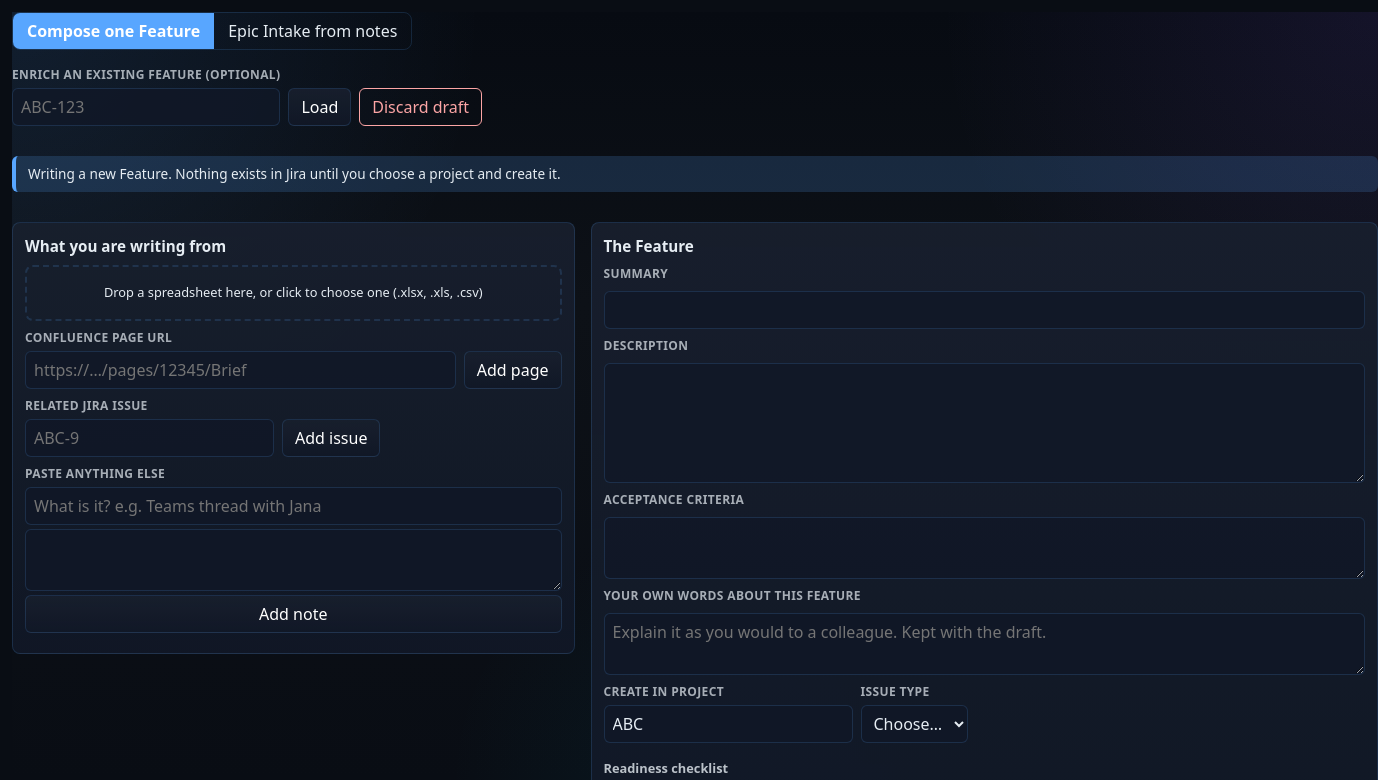
Test case: FeatureCompositionTab — all four source types in one place (SC-017) › adds a pasted note
Type "Teams thread" into the field labelled "Paste anything else".
click(293, 506); type("Teams thread")  # box [25,487,562,525]
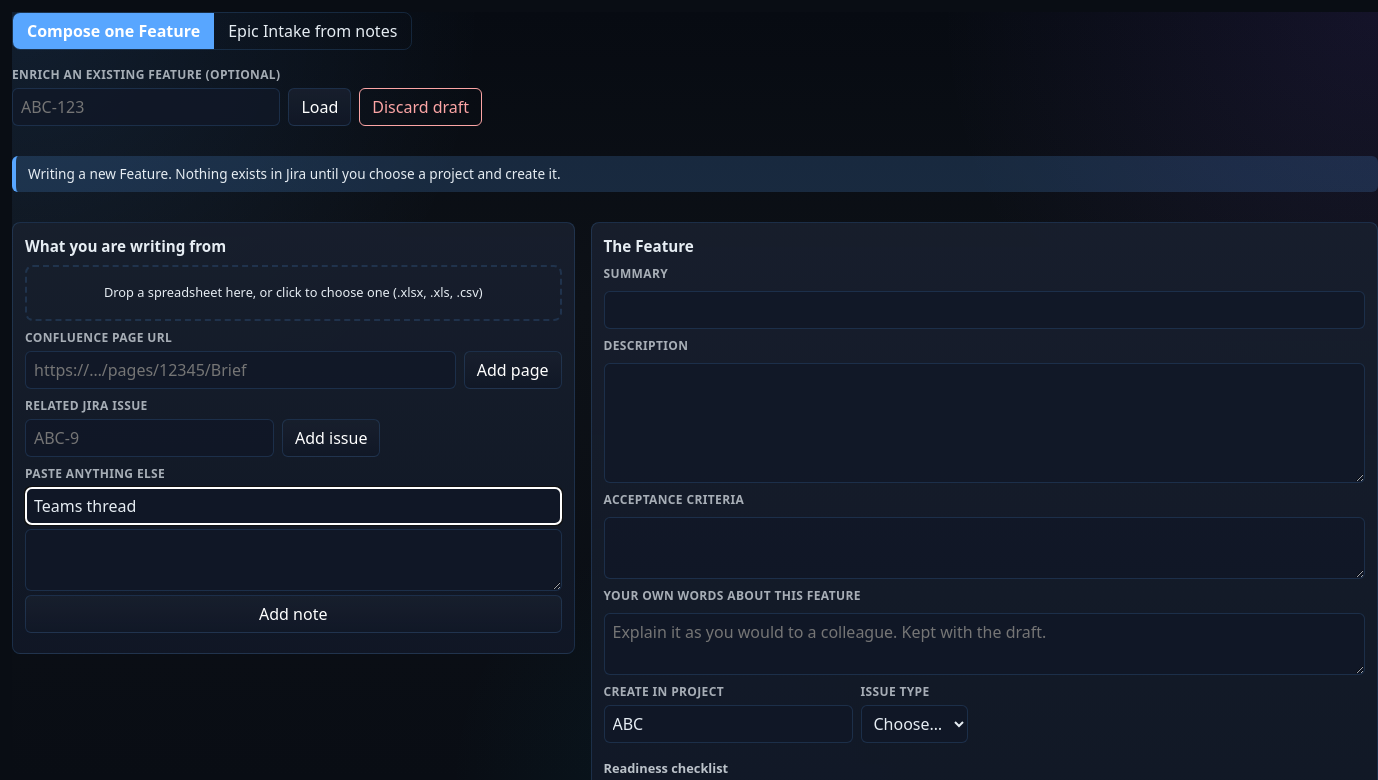
Type "Jana confirmed the SLA." into the text box named "Pasted content".
click(293, 560); type("Jana confirmed the SLA.")  # box [25,529,562,591]
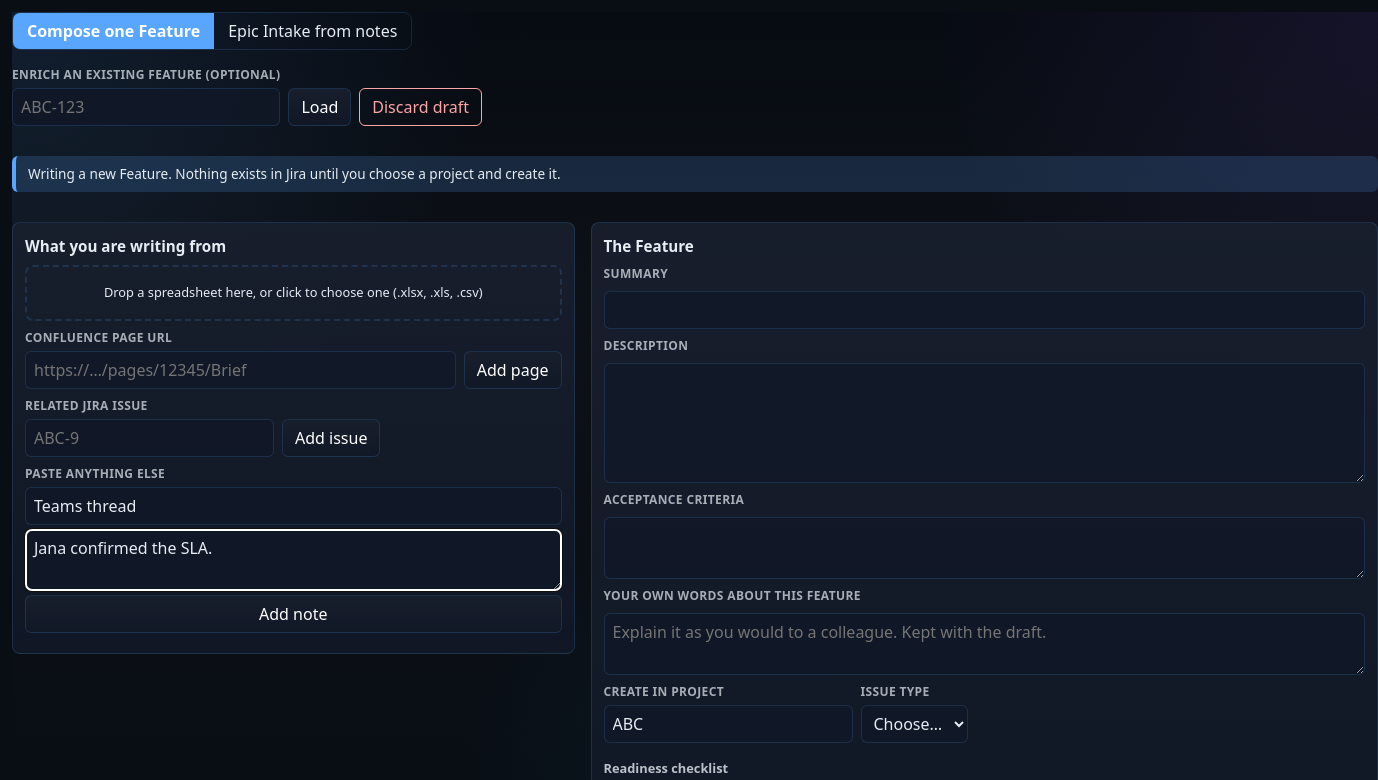
Click the button "Add note".
click(293, 614)  # box [25,595,562,633]
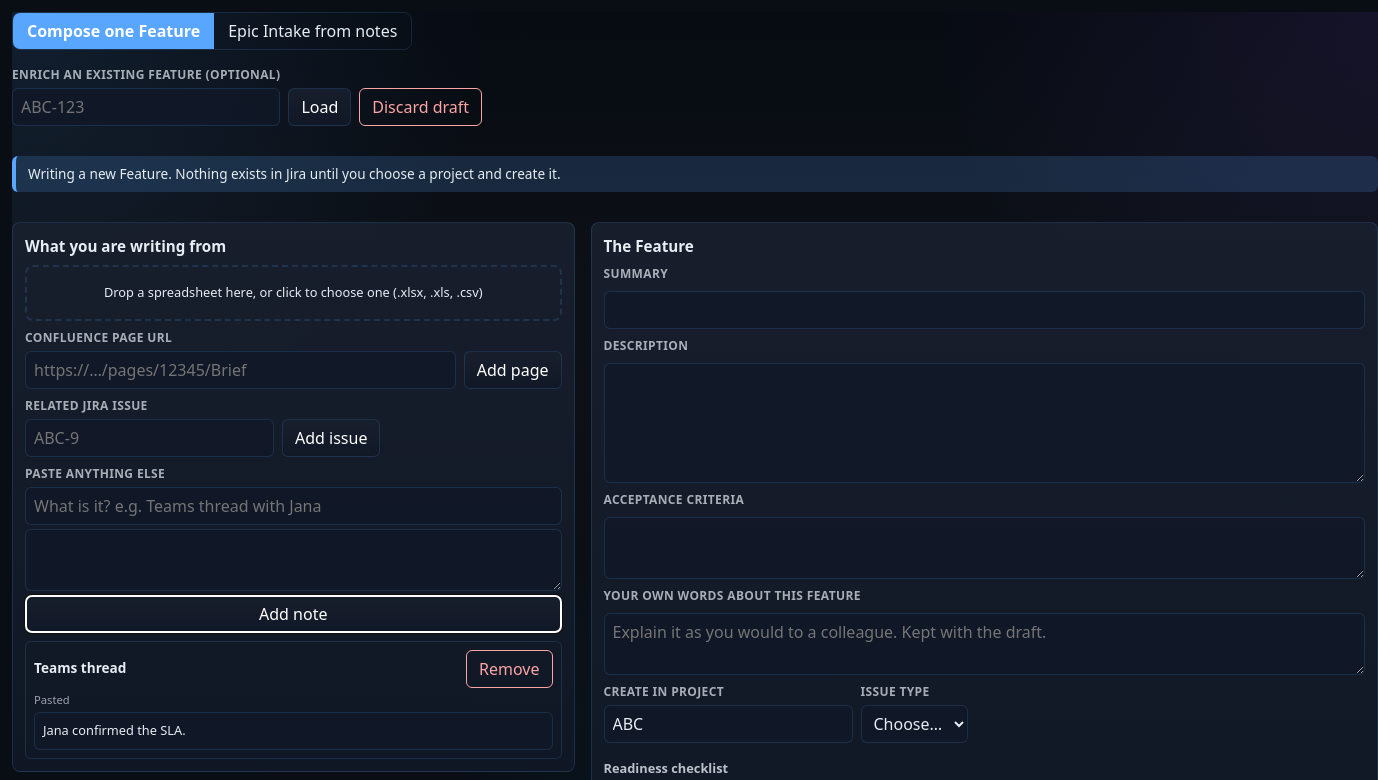
Check: the text "Teams thread" is shown, box [34,658,126,679]
